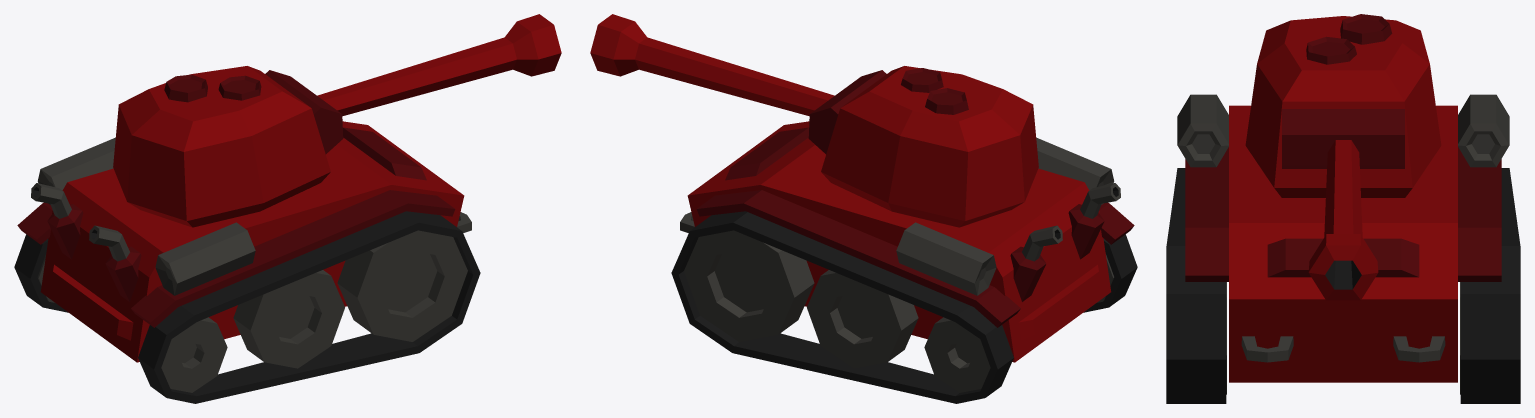
The model's file is Tank.fbx.
3 renders of one model, left to right at view 1: azimuth 30°, elevation 25°; view 2: azimuth 150°, elevation 25°; view 3: azimuth 270°, elevation 25°, orthographic. The views are drawn at different scales.
Visible parts, largest first — view 1: tank; view 2: tank; view 3: tank.
Boxes of the visible parts, x1,y1,x2,y2 form: tank: [14, 14, 561, 403]; tank: [590, 14, 1137, 403]; tank: [1166, 14, 1520, 403].
Bounding box in the file's own units: 4.4 × 2.12 × 2.32.
